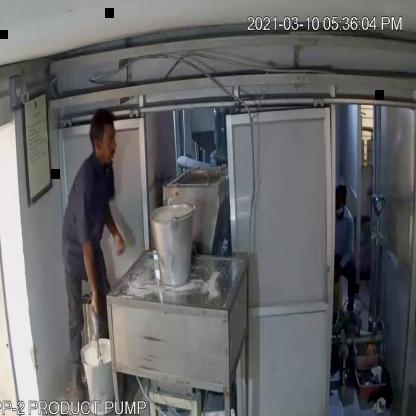no_glove: (76, 224, 101, 332)
